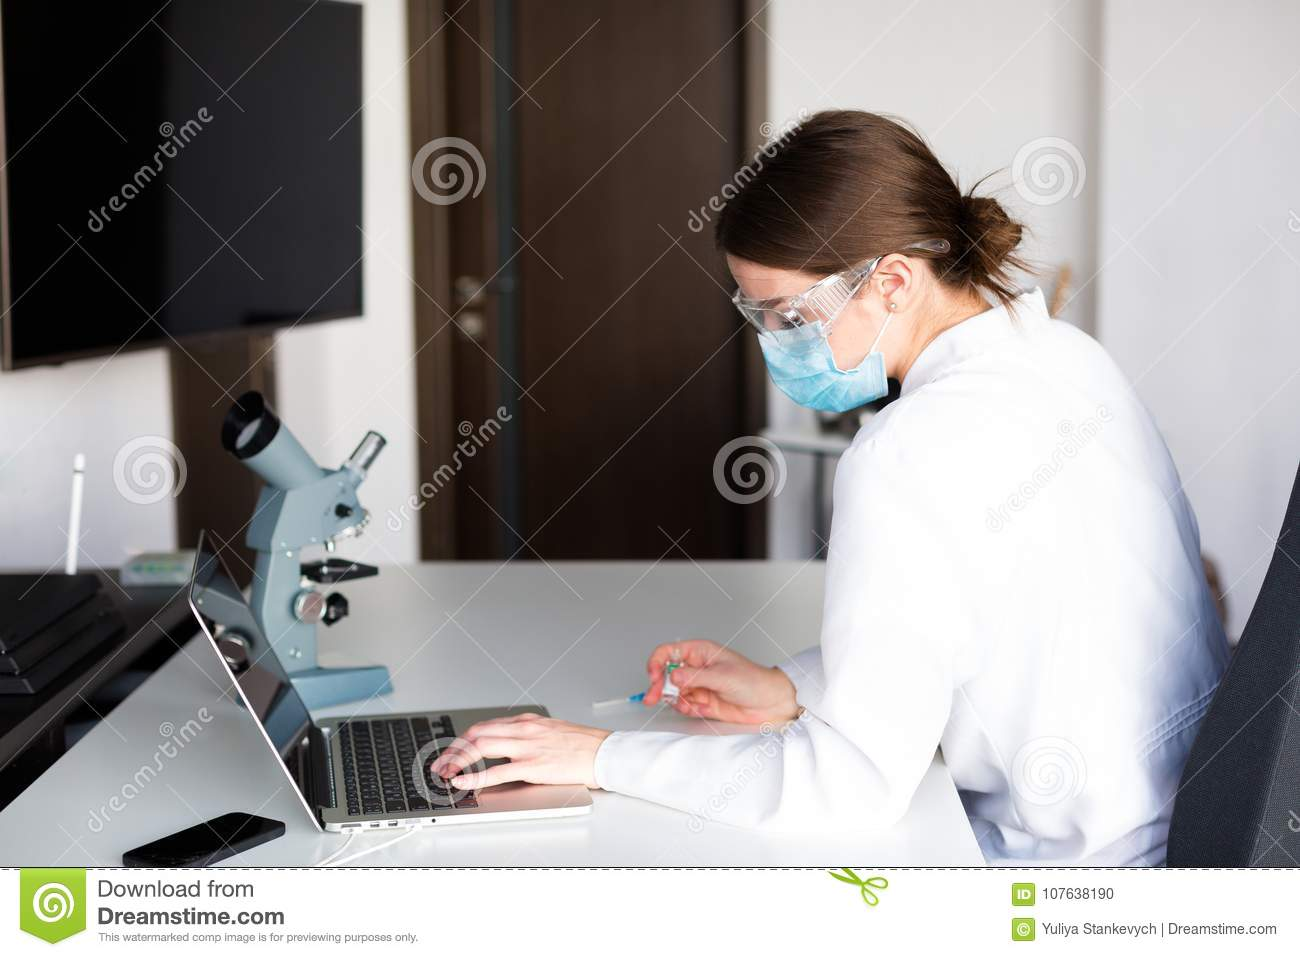mask: (745, 327, 895, 427)
